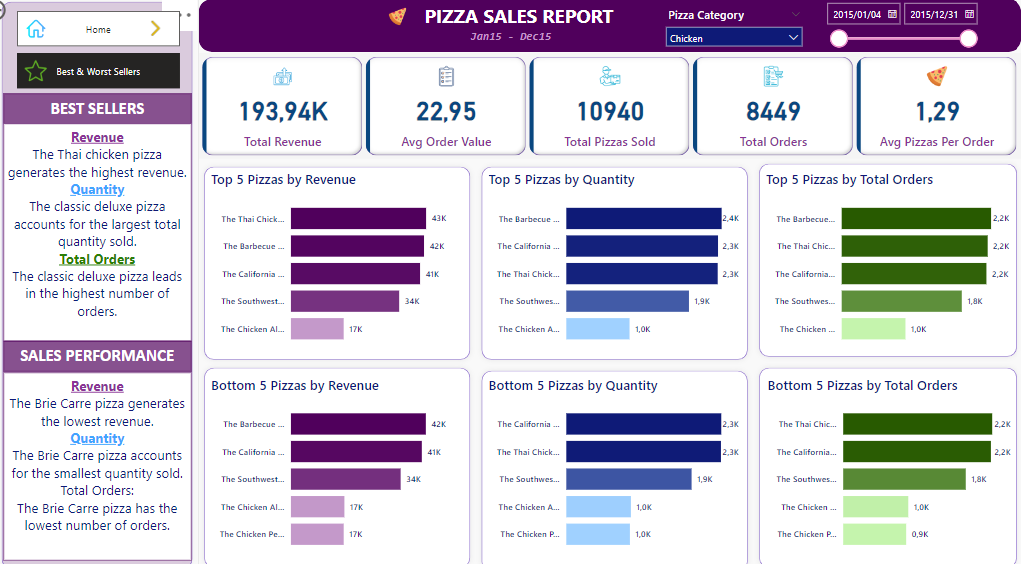

The dashboard page shown, as its layout file describes it:
{"tool":"powerbi","page":{"name":"Best & Worst Sellers","canvas":[1500,825],"ordinal":1},"visuals":[{"type":"cardVisual","fields":{"Data":["pizza_sales.Total Revenue","pizza_sales.Avg Order Value","pizza_sales.Total Pizzas Sold","pizza_sales.Total Orders","pizza_sales.Avg Pizzas Per Order"]},"box":[308.3,80,1168.3,150],"z":0},{"type":"shape","box":[308.3,5,1168.3,75],"z":1000},{"type":"textbox","box":[680.8,43.3,141.5,36.6],"z":2000},{"type":"image","box":[565.9,10,49.9,36.6],"z":3000},{"type":"textbox","box":[615.8,3.3,296.3,49.9],"z":4000},{"type":"shape","box":[308.3,233.3,393.3,290],"z":5000},{"type":"shape","box":[21.7,0,286.7,820],"z":6000},{"type":"textbox","box":[31.7,138.3,266.7,43.3],"z":7000},{"type":"textbox","box":[31.7,181.7,266.7,308.3],"z":8000},{"type":"textbox","box":[31.7,490,266.7,43.3],"z":9000},{"type":"textbox","box":[31.7,533.3,266.7,266.7],"z":10000},{"type":"actionButton","box":[0,0,100,40],"z":11000},{"type":"slicer","fields":{"Values":["pizza_sales.pizza_category"]},"box":[961.7,11.7,213.3,68.3],"z":12000},{"type":"slicer","fields":{"Values":["pizza_sales.order_date"]},"box":[1186.7,0,235,80],"z":13000},{"type":"shape","box":[1095,230,381.7,290],"z":14000},{"type":"shape","box":[701.7,233.3,393.3,290],"z":15000},{"type":"shape","box":[308.3,520,393.3,300],"z":16000},{"type":"shape","box":[701.7,523.3,393.3,301.7],"z":17000},{"type":"shape","box":[1095,520,381.7,300],"z":18000},{"type":"barChart","title":"Top 5 Pizzas by Revenue","fields":{"Category":["pizza_sales.pizza_name"],"Y":["pizza_sales.Total Revenue"]},"box":[321.7,246.7,365,261.7],"z":19000},{"type":"barChart","title":"Bottom 5 Pizzas by Revenue","fields":{"Category":["pizza_sales.pizza_name"],"Y":["pizza_sales.Total Revenue"]},"box":[321.7,538.3,365,261.7],"z":20000},{"type":"barChart","title":"Top 5 Pizzas by Quantity","fields":{"Category":["pizza_sales.pizza_name"],"Y":["pizza_sales.Total Pizzas Sold"]},"box":[715,246.7,365,261.7],"z":21000},{"type":"barChart","title":"Bottom 5 Pizzas by Quantity","fields":{"Category":["pizza_sales.pizza_name"],"Y":["pizza_sales.Total Pizzas Sold"]},"box":[715,538.3,365,261.7],"z":22000},{"type":"barChart","title":"Top 5 Pizzas by Total Orders","fields":{"Category":["pizza_sales.pizza_name"],"Y":["pizza_sales.Total Orders"]},"box":[1108.3,246.7,355,261.7],"z":23000},{"type":"barChart","title":"Bottom 5 Pizzas by Total Orders","fields":{"Category":["pizza_sales.pizza_name"],"Y":["pizza_sales.Total Orders"]},"box":[1110,538.3,355,261.7],"z":24000},{"type":"pageNavigator","box":[50,80,231.7,50],"z":25000},{"type":"pageNavigator","box":[50,21.7,231.7,50],"z":26000},{"type":"image","box":[55,85,45,41.7],"z":26001},{"type":"image","box":[55,28.3,45,36.7],"z":26002},{"type":"image","box":[226.7,30,40,31.7],"z":26003}]}

Visuals, with their boxes on the page's 1500x825 design canvas (x1, y1, x2, y2). These are canvas units, not pixel positions in the 1021x564 screenshot, which may show the page scaled, cropped or inside an application window:
cardVisual - pizza_sales.Total Revenue x pizza_sales.Avg Order Value: bbox(308, 80, 1477, 230)
shape: bbox(308, 5, 1477, 80)
textbox: bbox(681, 43, 822, 80)
image: bbox(566, 10, 616, 47)
textbox: bbox(616, 3, 912, 53)
shape: bbox(308, 233, 702, 523)
shape: bbox(22, 0, 308, 820)
textbox: bbox(32, 138, 298, 182)
textbox: bbox(32, 182, 298, 490)
textbox: bbox(32, 490, 298, 533)
textbox: bbox(32, 533, 298, 800)
actionButton: bbox(0, 0, 100, 40)
slicer - pizza_sales.pizza_category: bbox(962, 12, 1175, 80)
slicer - pizza_sales.order_date: bbox(1187, 0, 1422, 80)
shape: bbox(1095, 230, 1477, 520)
shape: bbox(702, 233, 1095, 523)
shape: bbox(308, 520, 702, 820)
shape: bbox(702, 523, 1095, 825)
shape: bbox(1095, 520, 1477, 820)
"Top 5 Pizzas by Revenue" barChart: bbox(322, 247, 687, 508)
"Bottom 5 Pizzas by Revenue" barChart: bbox(322, 538, 687, 800)
"Top 5 Pizzas by Quantity" barChart: bbox(715, 247, 1080, 508)
"Bottom 5 Pizzas by Quantity" barChart: bbox(715, 538, 1080, 800)
"Top 5 Pizzas by Total Orders" barChart: bbox(1108, 247, 1463, 508)
"Bottom 5 Pizzas by Total Orders" barChart: bbox(1110, 538, 1465, 800)
pageNavigator: bbox(50, 80, 282, 130)
pageNavigator: bbox(50, 22, 282, 72)
image: bbox(55, 85, 100, 127)
image: bbox(55, 28, 100, 65)
image: bbox(227, 30, 267, 62)
